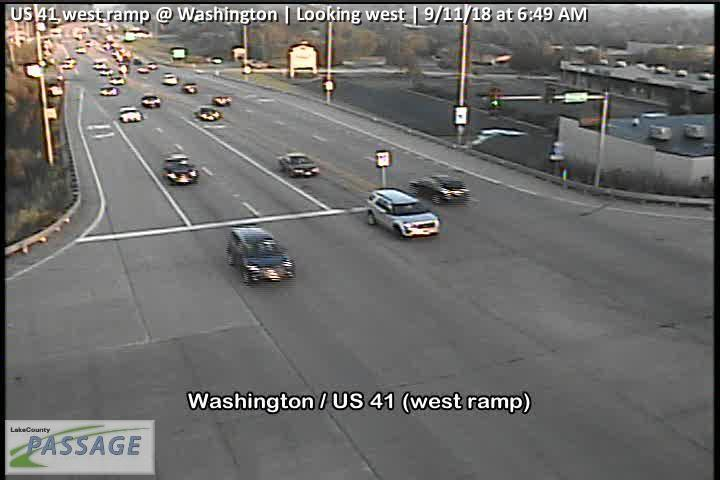SUV: (226, 225, 297, 285), (366, 187, 441, 240), (118, 105, 143, 124), (162, 72, 178, 85)
Sedan: (407, 172, 471, 208), (278, 151, 320, 179), (162, 158, 199, 185), (195, 106, 222, 122), (140, 94, 162, 109), (213, 94, 233, 107), (181, 82, 199, 95), (100, 86, 118, 97), (108, 77, 125, 86)
